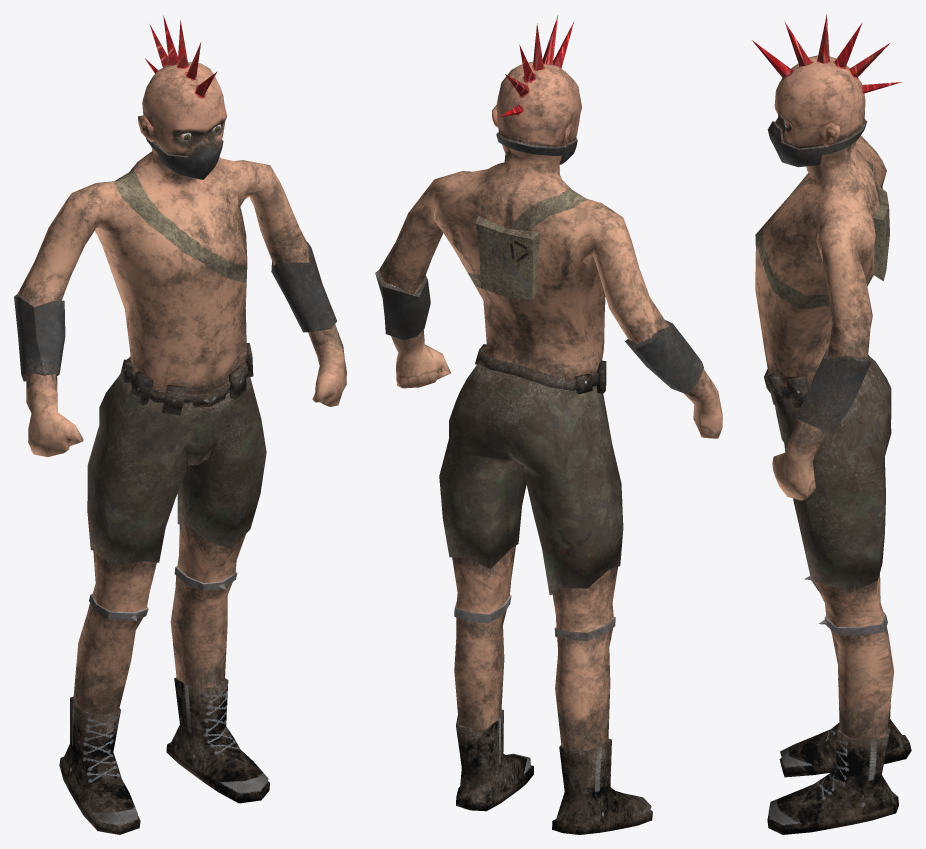
File: Anim_cogerobjeto_npc2.0039.obj
3 views of the same model, side by side, from view 1: azimuth 30°, elevation 25°; view 2: azimuth 150°, elevation 25°; view 3: azimuth 270°, elevation 25° (orthographic).
Parts seen in each view (by area): view 1: polySurface1; view 2: polySurface1; view 3: polySurface1.
Boxes of the visible parts, x1,y1,x2,y2 form: polySurface1: (14,15,346,834); polySurface1: (375,15,722,834); polySurface1: (752,14,911,834).
Size of the model in its own units: 4.46 by 10.35 by 1.89.
Materials: 2 (2 with a texture image).
